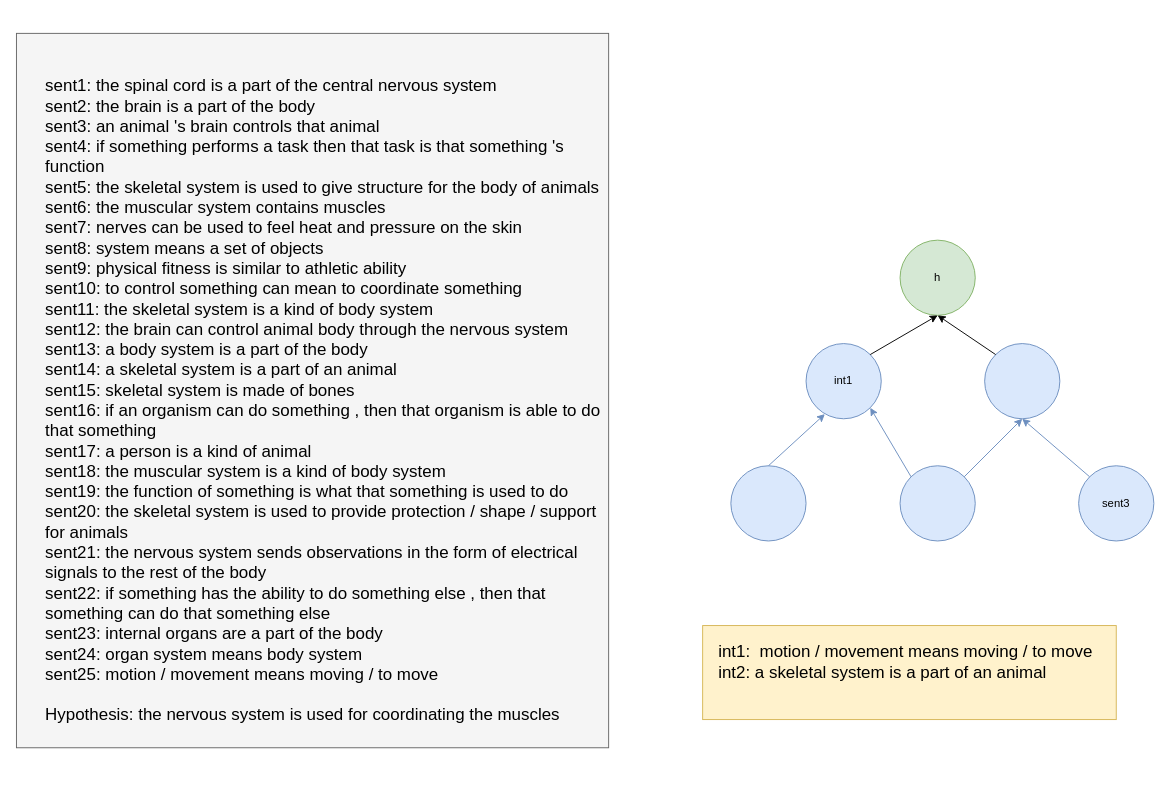
This 1170x802 diagram has some shape labels left out. The shapes that lost their labels are listed below. From the top down, each one's centre as x and y in pixels, then its label:
At (x=1022, y=381): "int2".
At (x=768, y=503): "sent1".
At (x=937, y=503): "sent2".
